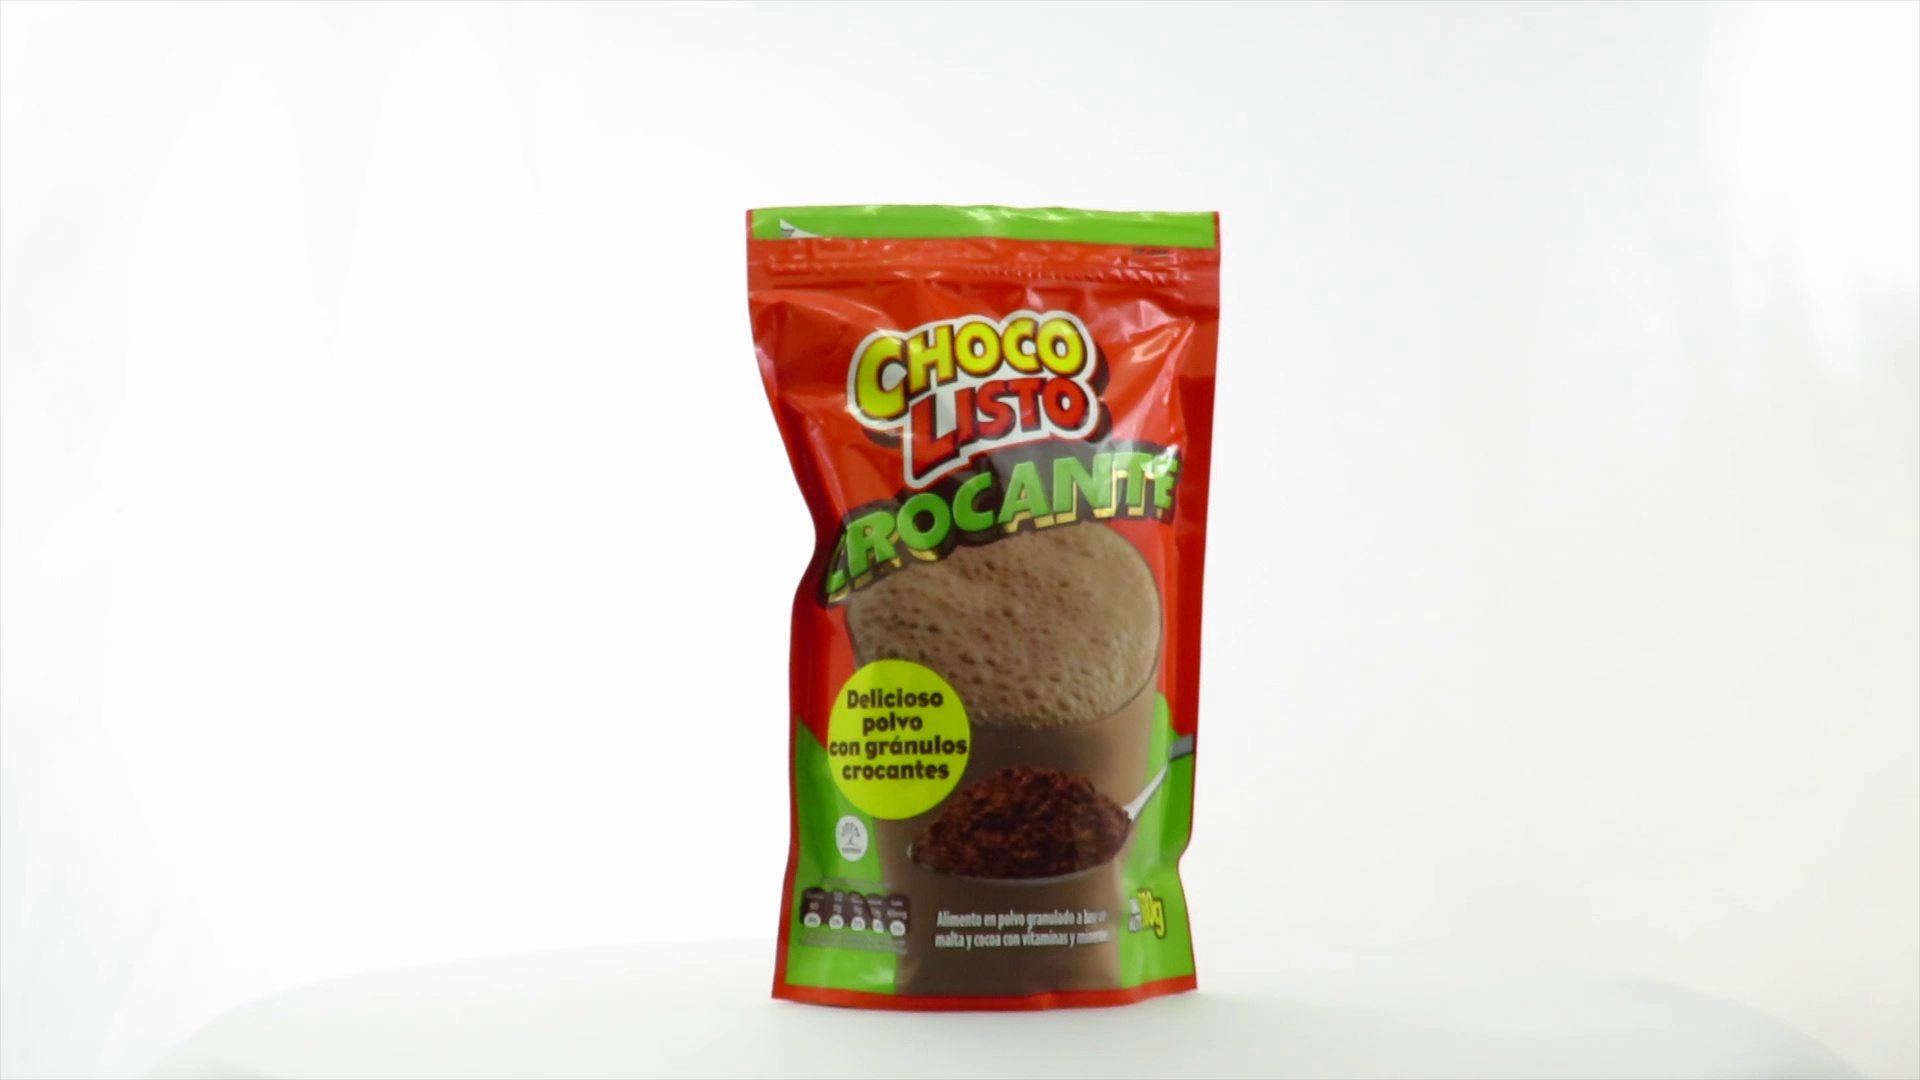COL0170102DYP50000: (740, 199, 1226, 1019)
